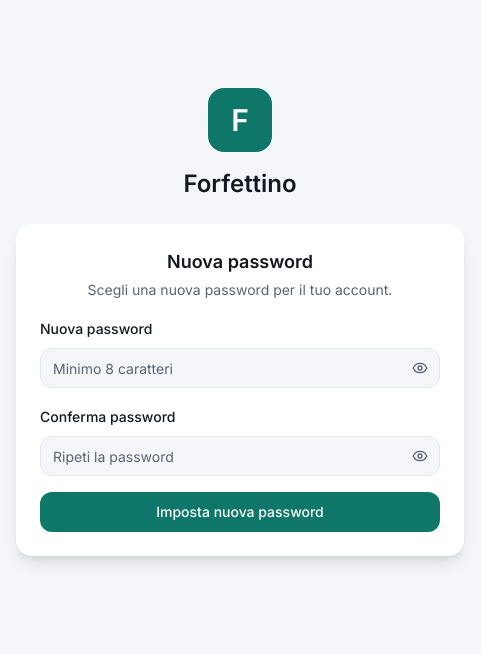
ResetPasswordPage › shows password strength indicator
Type "Abc" into the password field labelled "Nuova password" at (240, 368), box 40,348 -> 440,388
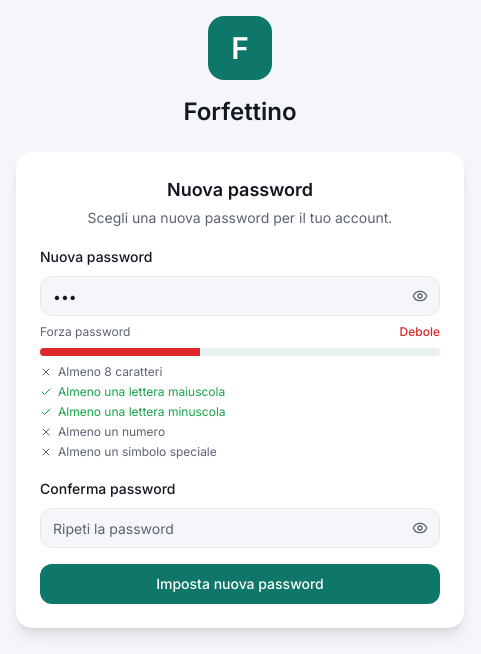
Expected: the text "Debole" is shown, 400,324 -> 440,340
